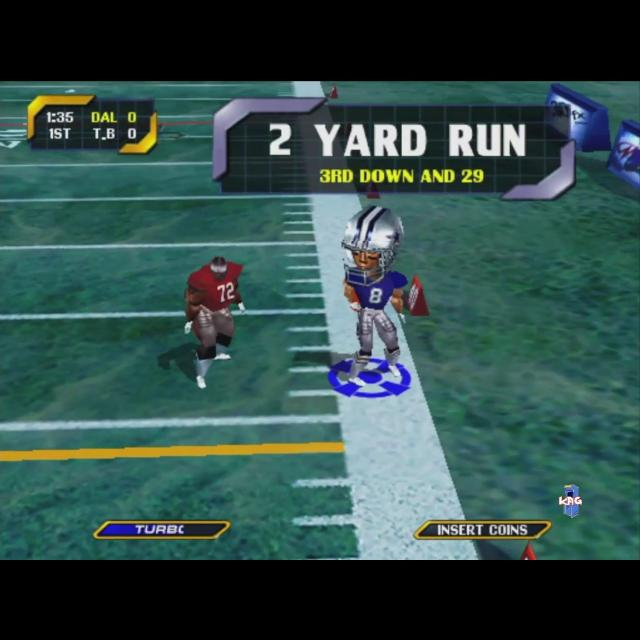player: (342, 205, 408, 385), (184, 255, 246, 388)
